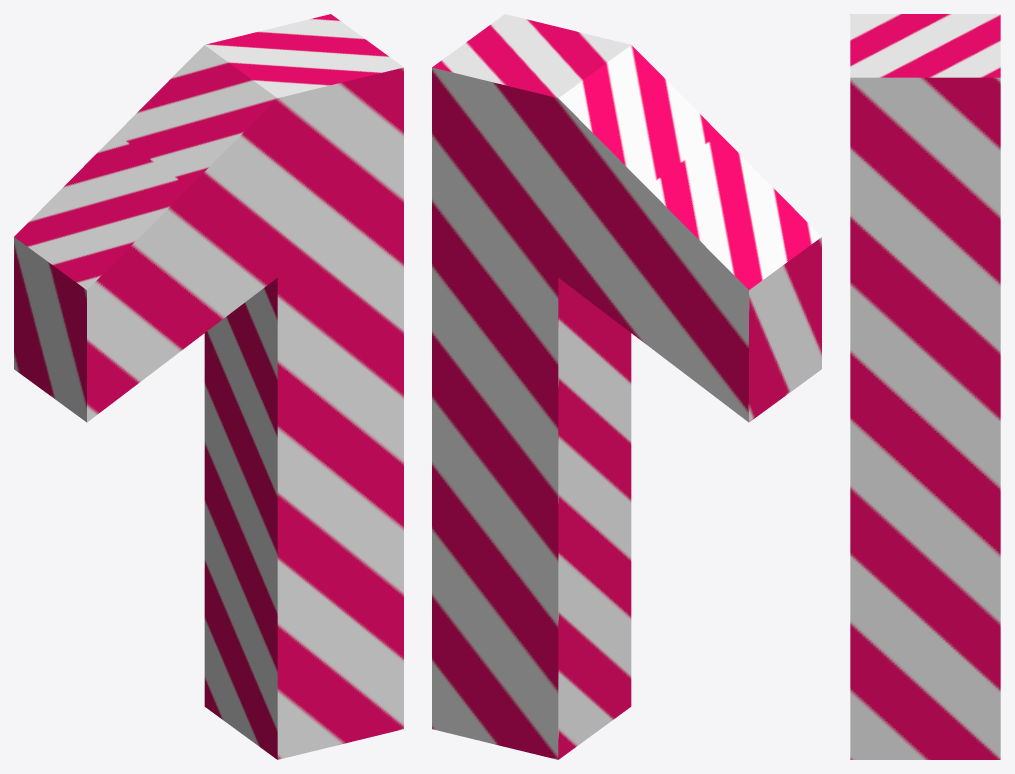
Rendered from One.fbx.
3 renders of one model, left to right at view 1: azimuth 30°, elevation 25°; view 2: azimuth 150°, elevation 25°; view 3: azimuth 270°, elevation 25°, orthographic. The views are drawn at different scales.
Parts seen in each view (by area): view 1: Cube; view 2: Cube; view 3: Cube.
Boxes of the visible parts, bbox=[...] form: Cube: bbox=[14, 14, 403, 759]; Cube: bbox=[432, 14, 821, 759]; Cube: bbox=[850, 14, 1000, 759].
Bounding box in the file's own units: 501 × 1000 × 200.
